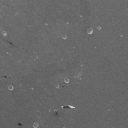corrosion: (59, 104, 77, 111), (63, 74, 71, 85), (6, 83, 15, 92), (85, 26, 94, 35), (31, 120, 41, 128), (1, 30, 8, 38), (97, 23, 103, 32), (61, 33, 67, 40), (119, 33, 125, 39), (54, 83, 60, 89)
